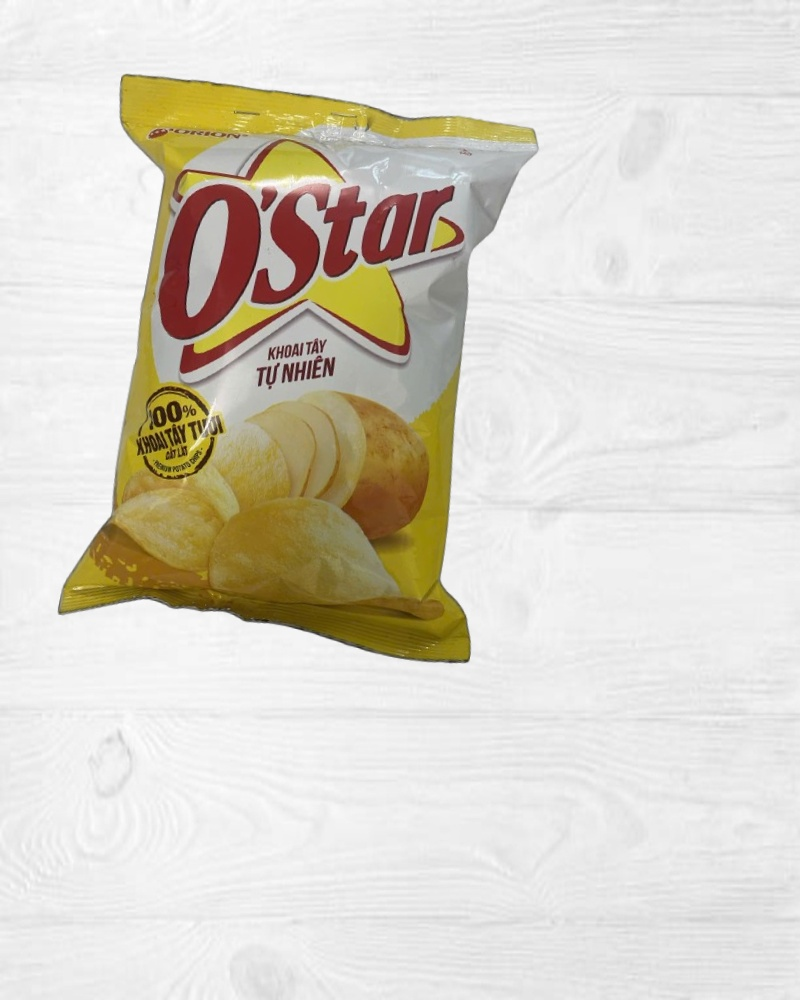O'star: (30, 57, 562, 686)
